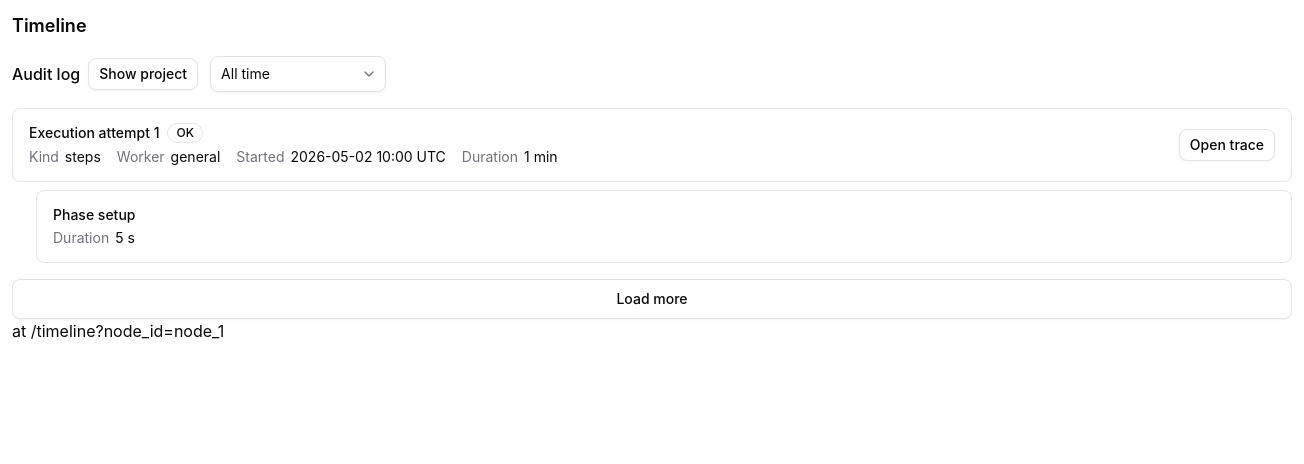
TimelineScreen › loads the next page with the cursor and joins the items of a cut trace to its group
Click the button "Load more".
click(652, 299)  # box [12,279,1292,319]
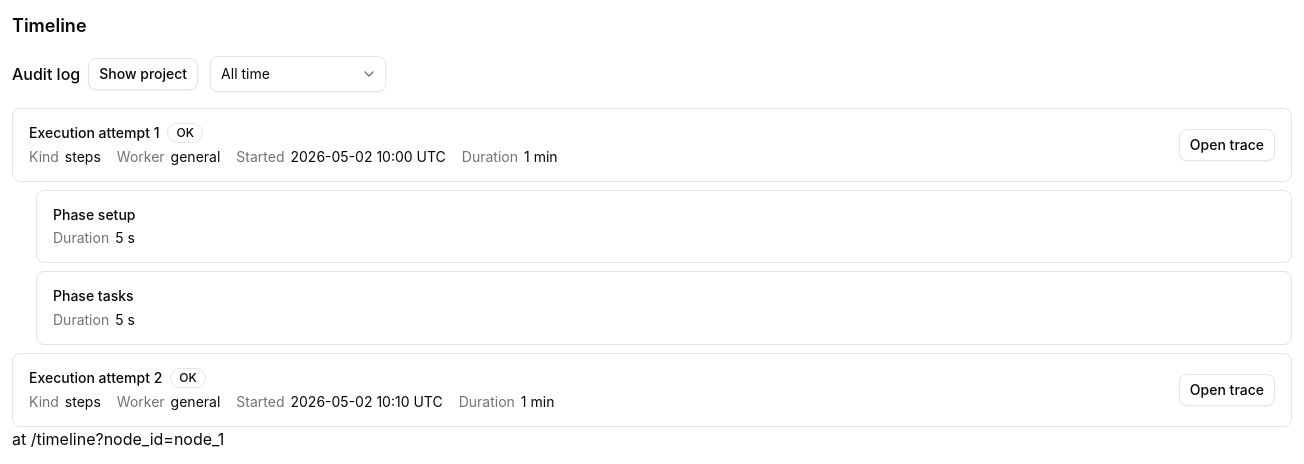
Check: the text "Phase tasks" is shown, box [53,286,134,306]
Check: the element showing "Phase tasks Duration 5 s" is shown, box [53,287,135,328]
Check: the list item that starts with "Execution attempt 2" is shown, box [29,369,162,386]
